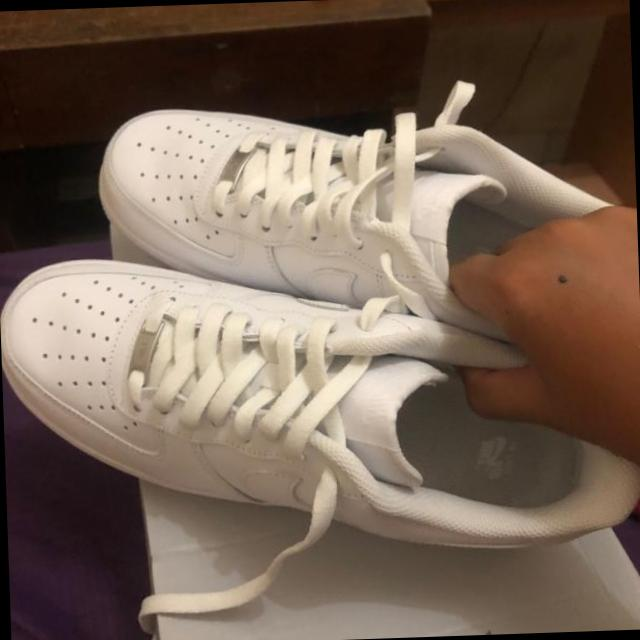nike_original_airforce: (0, 238, 640, 565), (90, 88, 630, 351)
